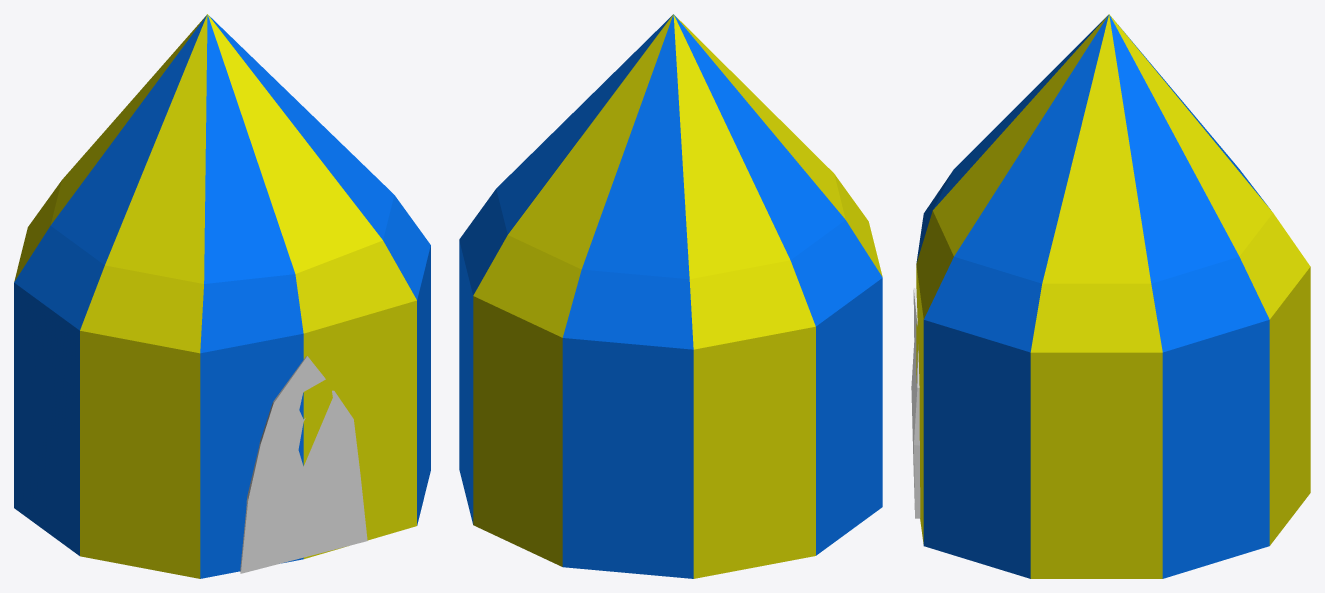
File: Circus.fbx
The picture shows the model from 3 angles, left to right: view 1: azimuth 30°, elevation 25°; view 2: azimuth 150°, elevation 25°; view 3: azimuth 270°, elevation 25°; orthographic projection.
Parts seen in each view (by area): view 1: Cone, Cylinder; view 2: Cone; view 3: Cone, Cylinder.
Boxes of the visible parts, x1,y1,x2,y2 form: Cone: [14, 14, 430, 578]; Cylinder: [240, 356, 367, 573]; Cone: [459, 14, 882, 578]; Cone: [916, 14, 1310, 578]; Cylinder: [911, 288, 920, 518].
Size of the model in its own units: 375 by 485 by 368.
